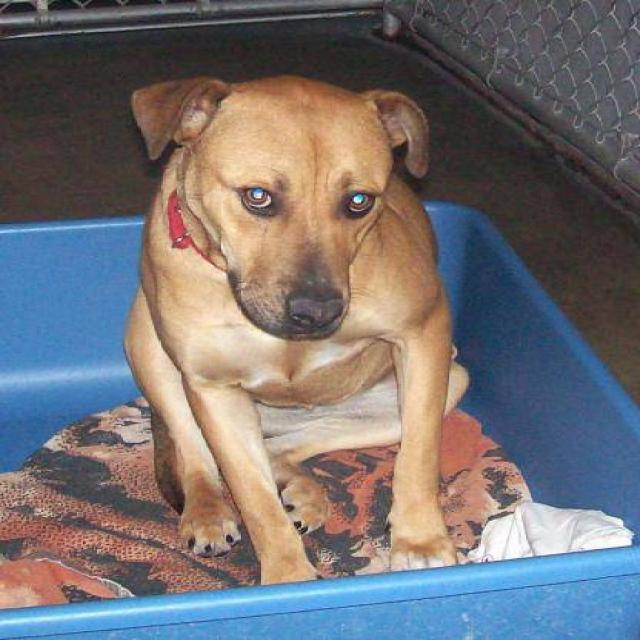dog: (120, 72, 472, 585)
